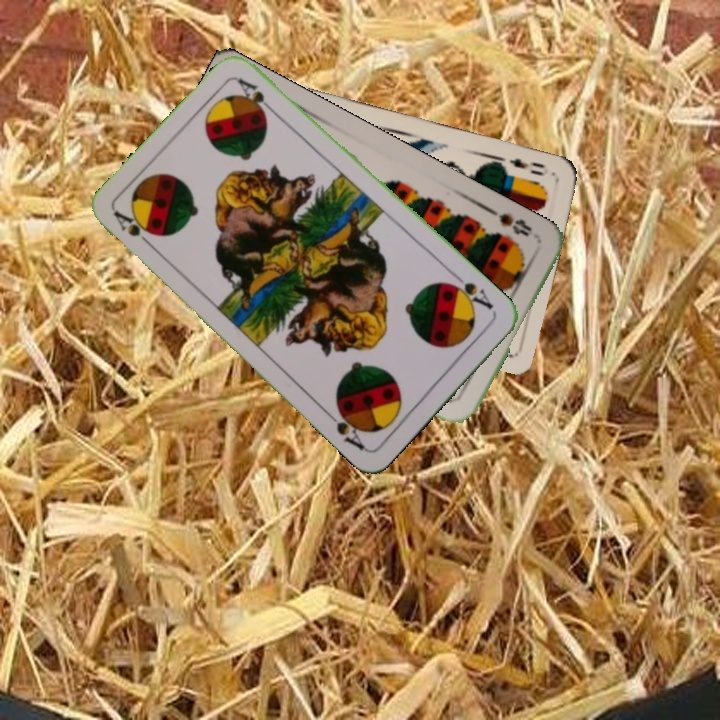EO: (505, 154, 551, 179)
S8: (488, 205, 535, 239)
SA: (443, 269, 496, 313), (109, 206, 159, 252)
